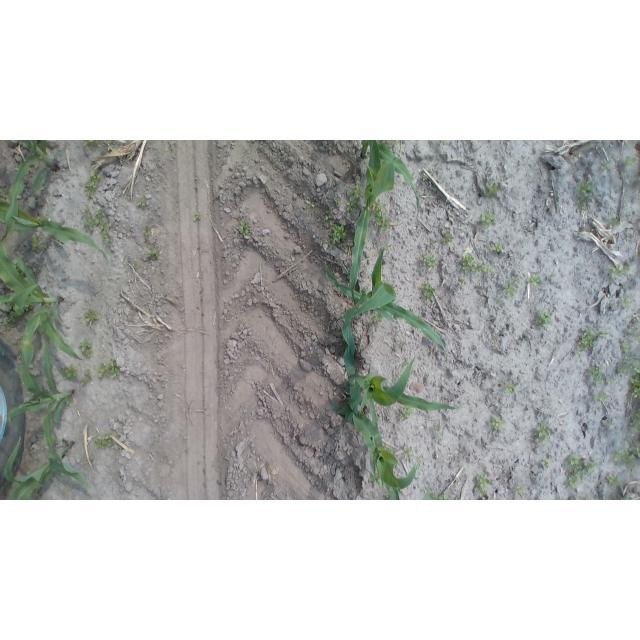Maize: (5, 312, 91, 487), (326, 250, 448, 364), (0, 242, 84, 361), (332, 354, 465, 423), (347, 141, 403, 304), (335, 410, 424, 500), (1, 202, 110, 265), (1, 140, 60, 236), (0, 437, 74, 500), (358, 141, 420, 216)
Weeds: (563, 455, 598, 488), (81, 207, 114, 241), (574, 327, 610, 355), (370, 200, 390, 233), (613, 444, 640, 467), (85, 168, 104, 199), (346, 184, 364, 212), (608, 261, 635, 279), (1, 302, 18, 328), (326, 223, 346, 245), (98, 361, 121, 380), (459, 252, 479, 273), (629, 364, 640, 401), (474, 471, 490, 496), (418, 252, 440, 270), (96, 433, 117, 451), (576, 180, 597, 198), (587, 364, 604, 386), (82, 141, 115, 152), (533, 309, 552, 327), (484, 180, 501, 200), (78, 338, 94, 359), (422, 281, 437, 303), (423, 489, 453, 500), (480, 211, 497, 230), (30, 235, 47, 254), (535, 422, 551, 442), (84, 308, 100, 326), (628, 409, 640, 433), (145, 245, 162, 261), (617, 359, 633, 375), (491, 414, 507, 430), (502, 282, 517, 299), (237, 221, 252, 237), (61, 365, 78, 379), (399, 405, 414, 420), (623, 157, 640, 170), (592, 391, 609, 404), (527, 273, 542, 287), (629, 323, 640, 341), (575, 197, 589, 211), (368, 474, 383, 487), (620, 293, 632, 309), (606, 474, 620, 487), (619, 340, 632, 354), (443, 231, 456, 245), (403, 446, 414, 461), (609, 215, 621, 228), (305, 199, 317, 212), (504, 381, 516, 394), (540, 458, 554, 469), (135, 197, 147, 209), (22, 303, 35, 314), (321, 211, 333, 222), (83, 368, 91, 384), (611, 493, 629, 500), (375, 313, 386, 324), (479, 266, 494, 274), (515, 484, 525, 496), (601, 161, 612, 171), (290, 253, 302, 262), (512, 275, 521, 287), (493, 242, 503, 252), (16, 268, 25, 279), (332, 197, 341, 208), (433, 425, 442, 436), (434, 140, 450, 146), (166, 141, 175, 151), (193, 211, 202, 221), (35, 489, 43, 500), (144, 229, 152, 240), (458, 278, 467, 287), (39, 214, 49, 222), (548, 272, 556, 282), (66, 397, 75, 405), (430, 238, 439, 246), (244, 148, 252, 157), (420, 174, 428, 183), (129, 261, 139, 268), (323, 261, 329, 271), (608, 379, 615, 387), (531, 472, 538, 478), (308, 401, 313, 406), (586, 497, 593, 500)
